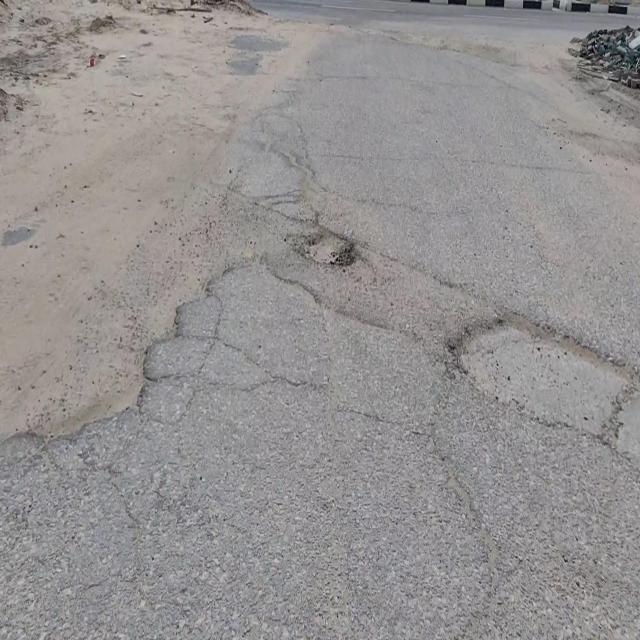Potholes: (448, 317, 629, 448), (4, 330, 169, 442), (294, 228, 354, 273)
